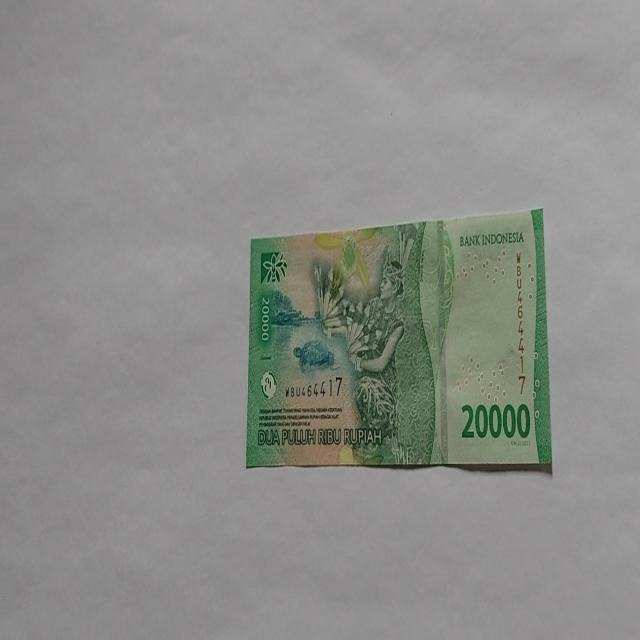dua puluh ribu rupiah: (245, 206, 553, 473)
